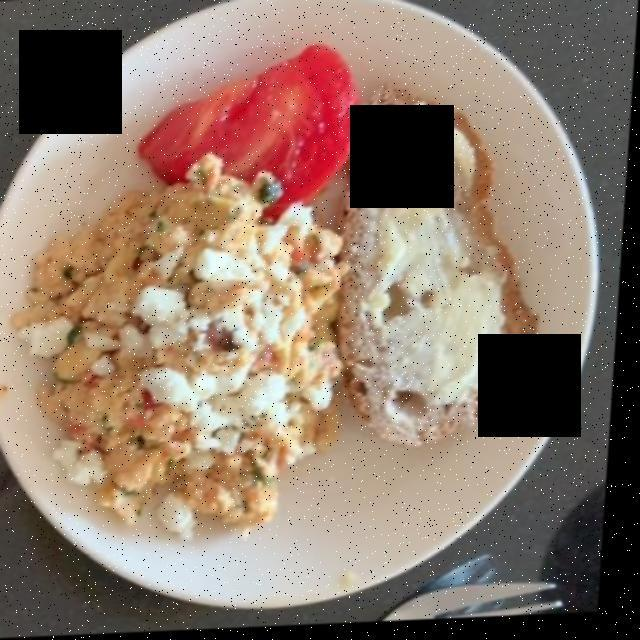bread: (341, 81, 529, 452)
butter: (363, 114, 503, 406)
cheese: (25, 251, 287, 528)
eggs: (25, 168, 336, 526)
tomato: (136, 47, 362, 215)
